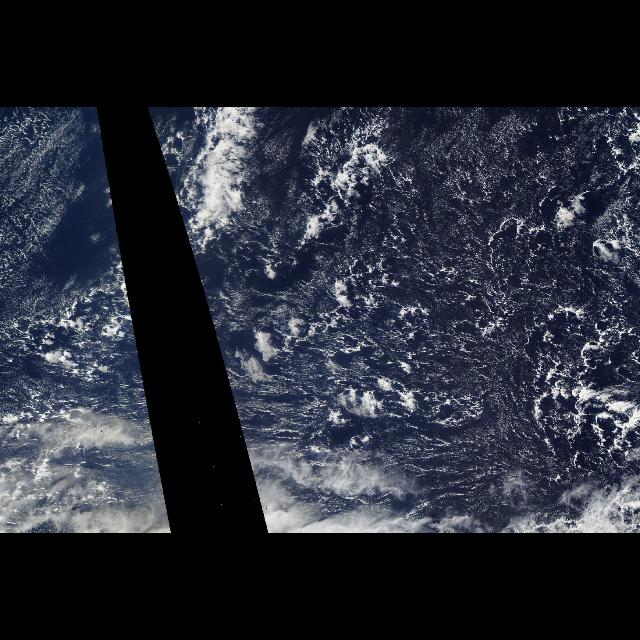Fish: (149, 112, 391, 388), (44, 113, 148, 389)
Gravel: (278, 112, 640, 508)
Sugar: (0, 111, 121, 311), (384, 111, 628, 172)
